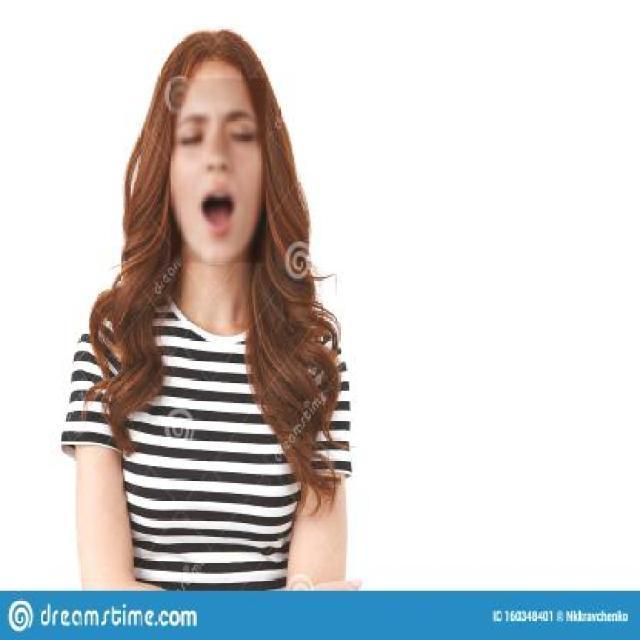sleepy: (169, 109, 271, 256)
